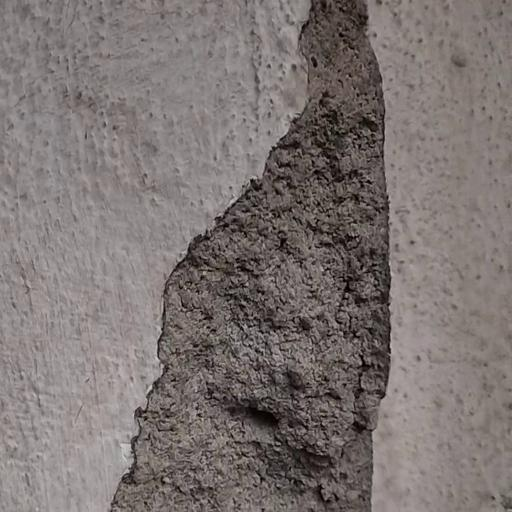spalling: (101, 0, 392, 512)
